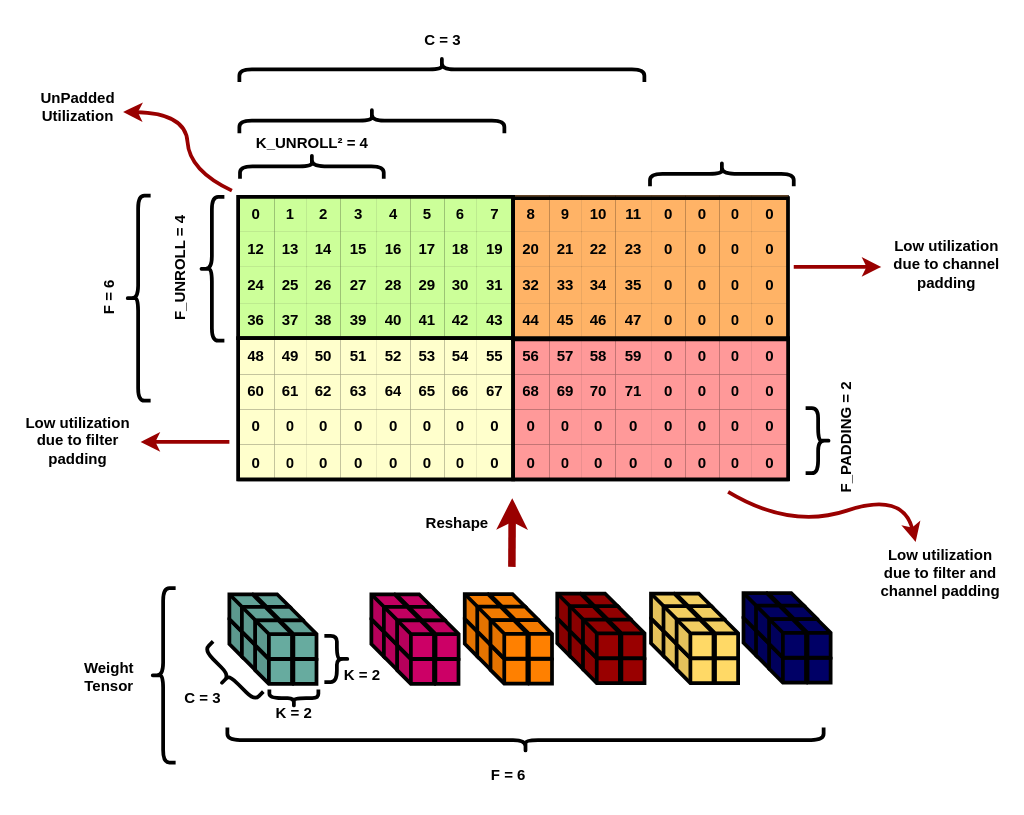
Some shapes in this 1024 by 815 pixel diagram are drawn without their labels. The shapes that lost their labels are listed below. From the top down, each one's box as (x1, y1, x2, y2) in pixels, then its label:
(237, 106, 506, 134): C_UNROLL = 8
(648, 159, 795, 188): C_PADDING = 1
